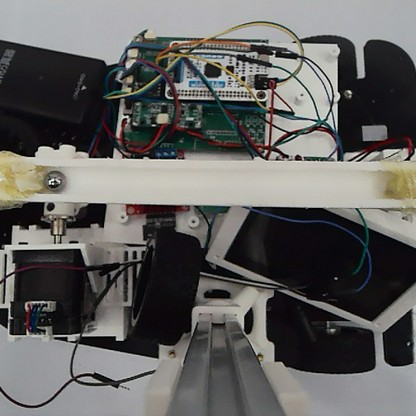ironball: (42, 166, 67, 193)
